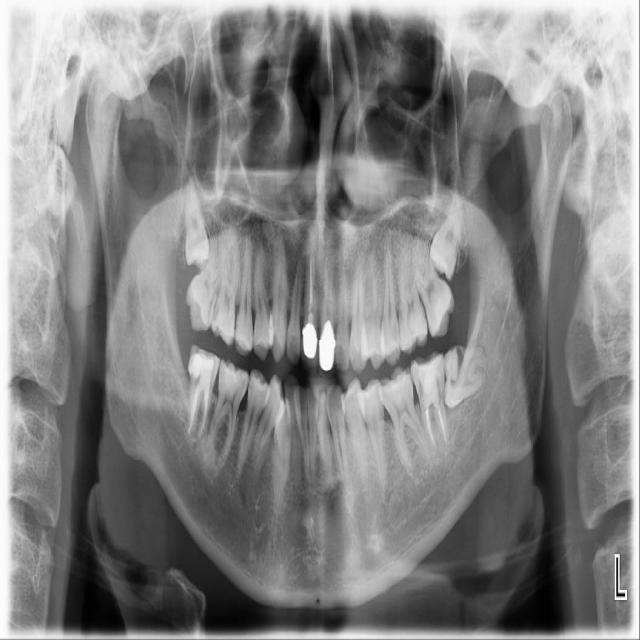Crown: (318, 320, 335, 372), (300, 327, 319, 368)
Filling: (412, 348, 447, 388), (189, 344, 220, 380)
Root Canal Treatment: (188, 384, 202, 434), (199, 386, 209, 438), (425, 404, 436, 449), (440, 406, 446, 440), (310, 254, 312, 314)
impacted tooth: (430, 193, 464, 279), (443, 343, 486, 408), (182, 177, 210, 263)
